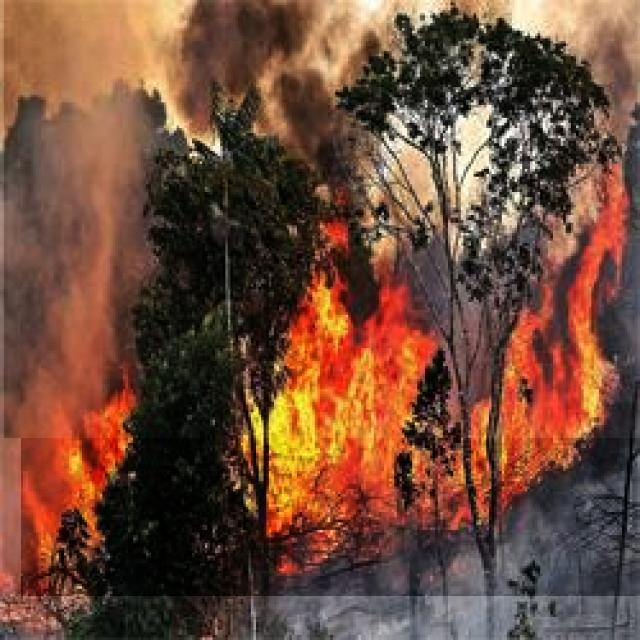Fire: (21, 192, 640, 596)
Smoke: (4, 0, 640, 438)
